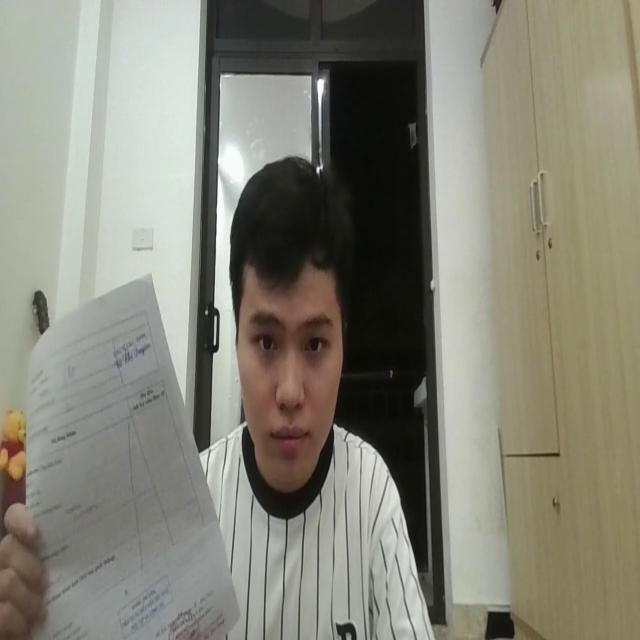book: (26, 272, 242, 640)
student: (190, 155, 435, 640)
